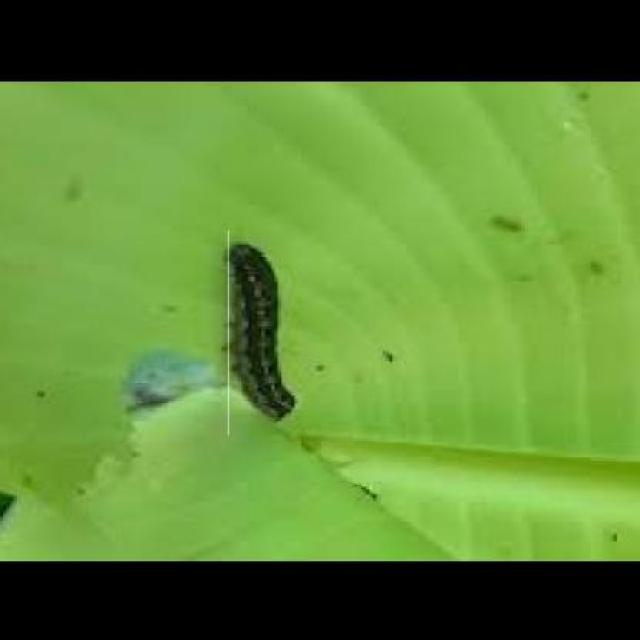Plaga: (229, 231, 304, 437)
